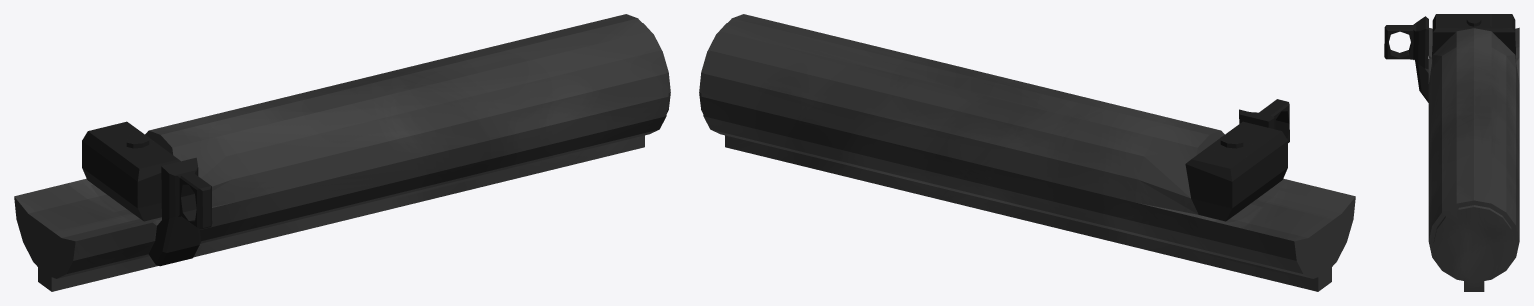
File: ButtPipe.fbx
The picture shows the model from 3 angles, left to right: view 1: azimuth 30°, elevation 25°; view 2: azimuth 150°, elevation 25°; view 3: azimuth 270°, elevation 25°; orthographic projection. The views are drawn at different scales.
Visible parts, largest first — view 1: ButtPipe; view 2: ButtPipe; view 3: ButtPipe.
Boxes of the visible parts, bbox=[...] form: ButtPipe: bbox=[14, 14, 670, 291]; ButtPipe: bbox=[699, 14, 1355, 291]; ButtPipe: bbox=[1384, 14, 1519, 291].
Size of the model in its own units: 44.22 by 8.78 by 11.7.
1 material, 1 textured.
